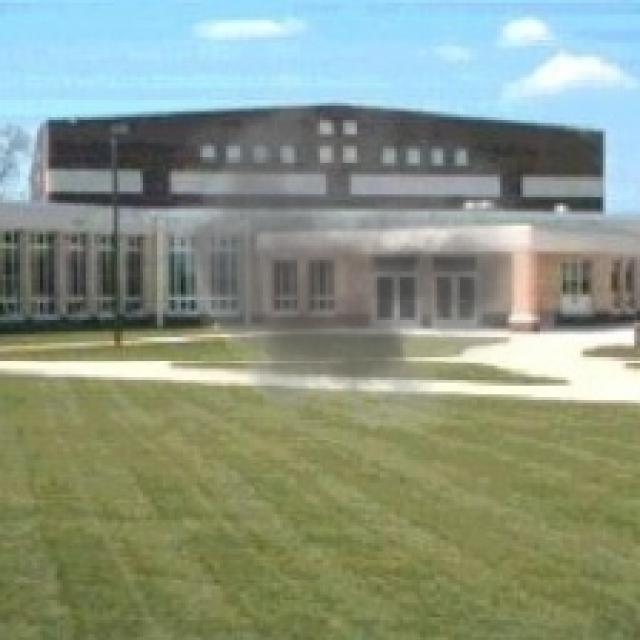smoke: (151, 57, 546, 452)
